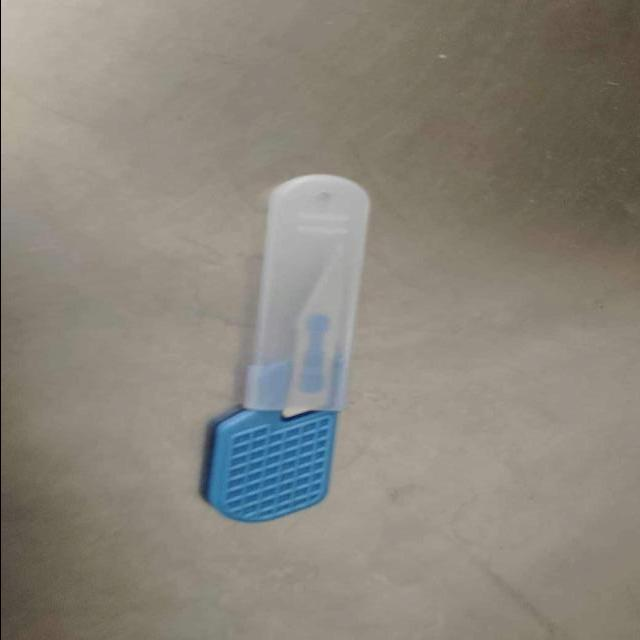Sharps: (202, 172, 372, 523)
